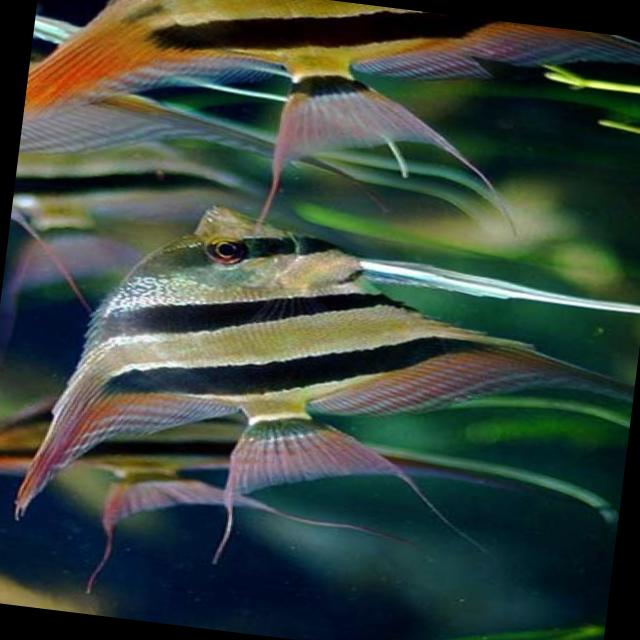AngelFish: (14, 184, 630, 586), (23, 0, 640, 189), (0, 386, 250, 544)
